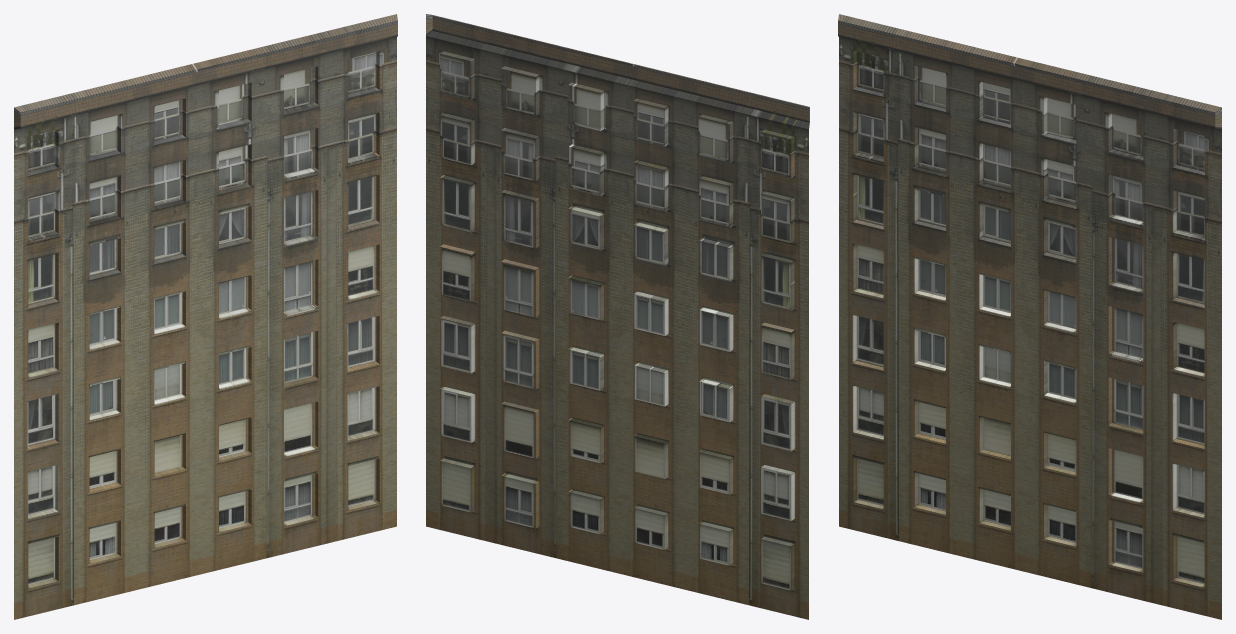
Rendered from Building_2.FBX.
3 renders of one model, left to right at view 1: azimuth 30°, elevation 25°; view 2: azimuth 150°, elevation 25°; view 3: azimuth 330°, elevation 25°, orthographic.
Visible parts, largest first — view 1: Box004; view 2: Box004; view 3: Box004.
Boxes of the visible parts, x1,y1,x2,y2 form: Box004: (14, 14, 397, 619); Box004: (426, 14, 809, 619); Box004: (838, 14, 1221, 619).
Size of the model in its own units: 12.66 by 16.2 by 0.4068.
1 material, 1 textured.
